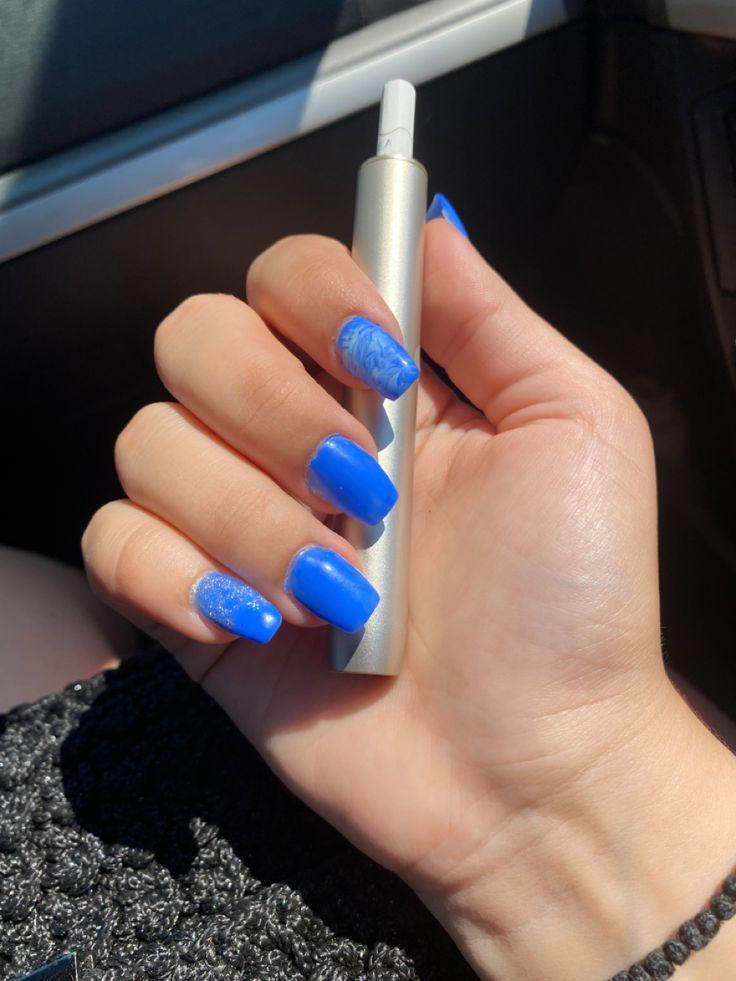iqos: (325, 78, 430, 678)
